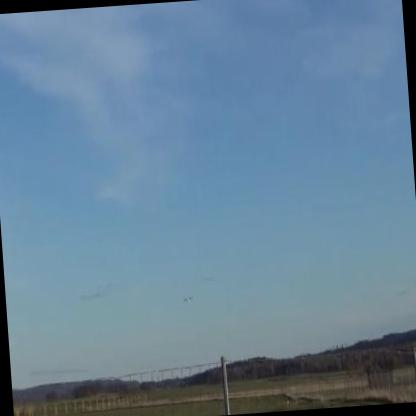plane: (175, 288, 202, 308)
